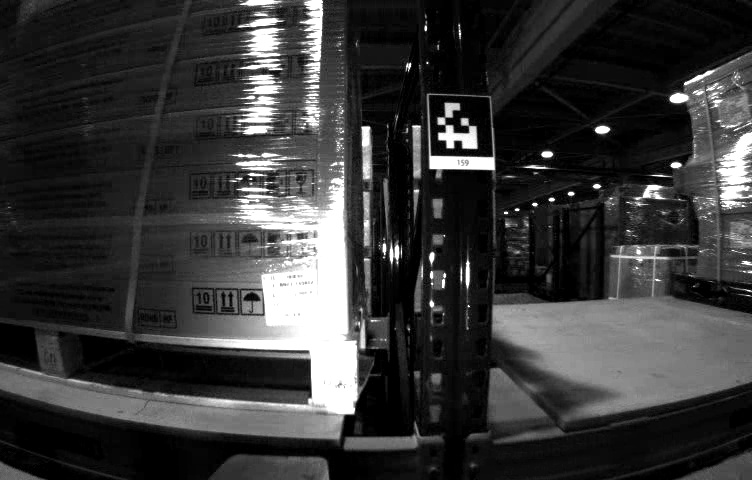True Barcode: (258, 274, 328, 330)
